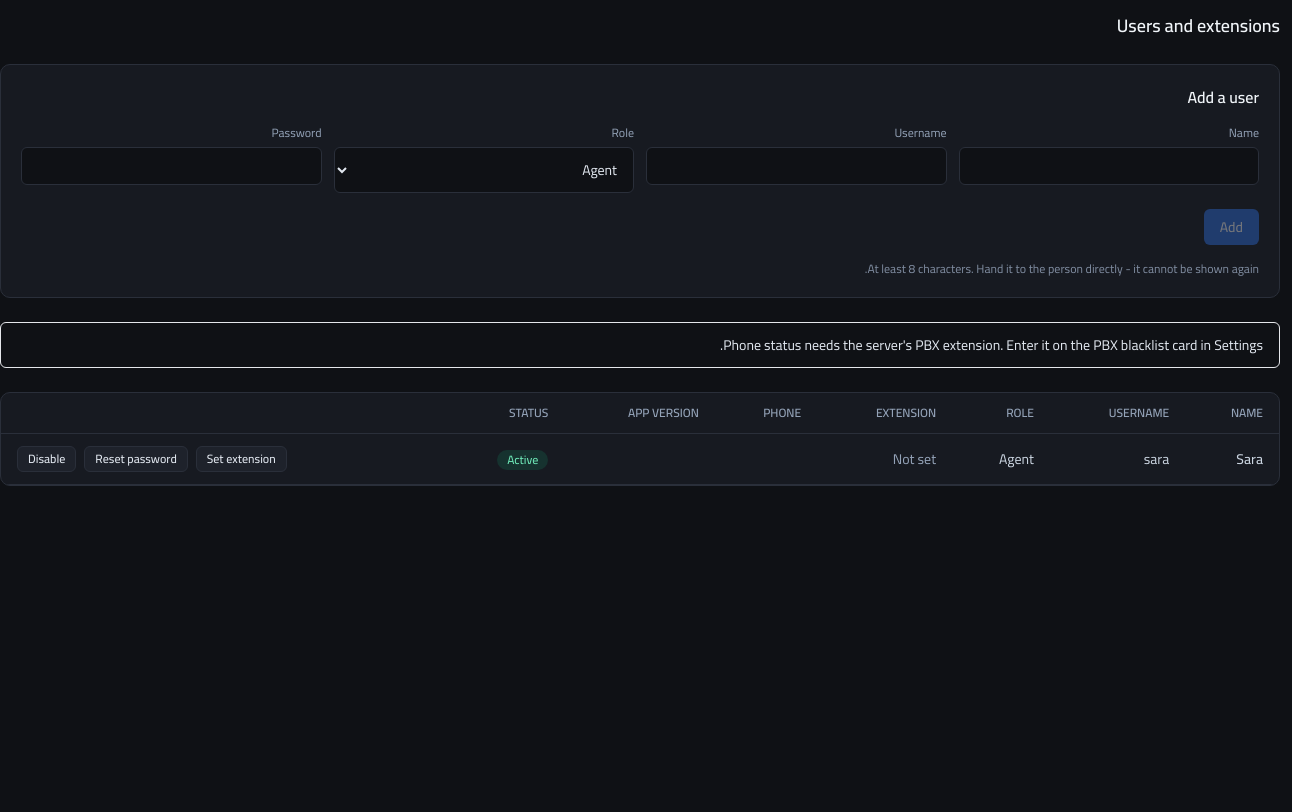
Test: users page › translates a refusal from the server
The width and height of the screenshot is (1292, 812).
Expected: the text "Sara" is shown, [1185,434,1279,484]
Type "Omar" into the field labelled "Name" at (1109, 166), box [958,147,1259,185]
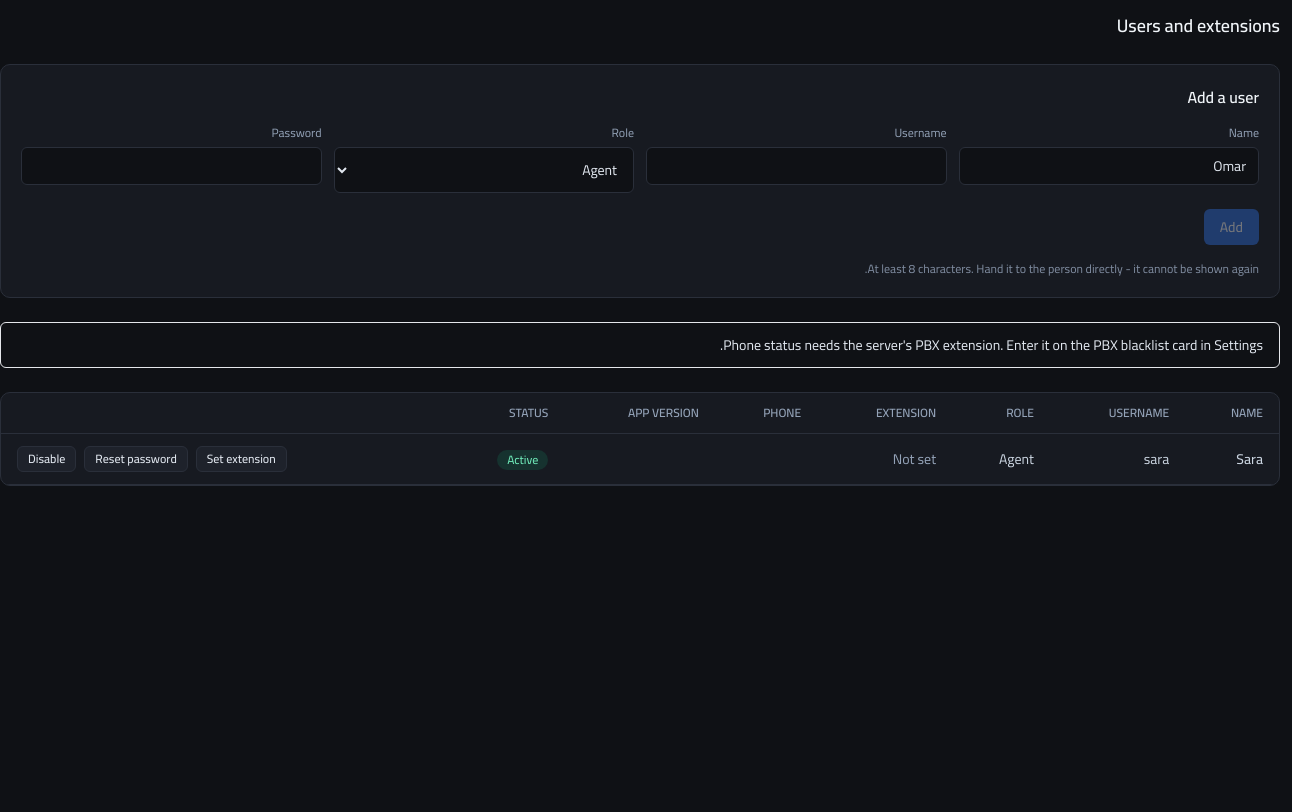
Type "sara" into the field labelled "Username" at (796, 166), box [646,147,946,185]
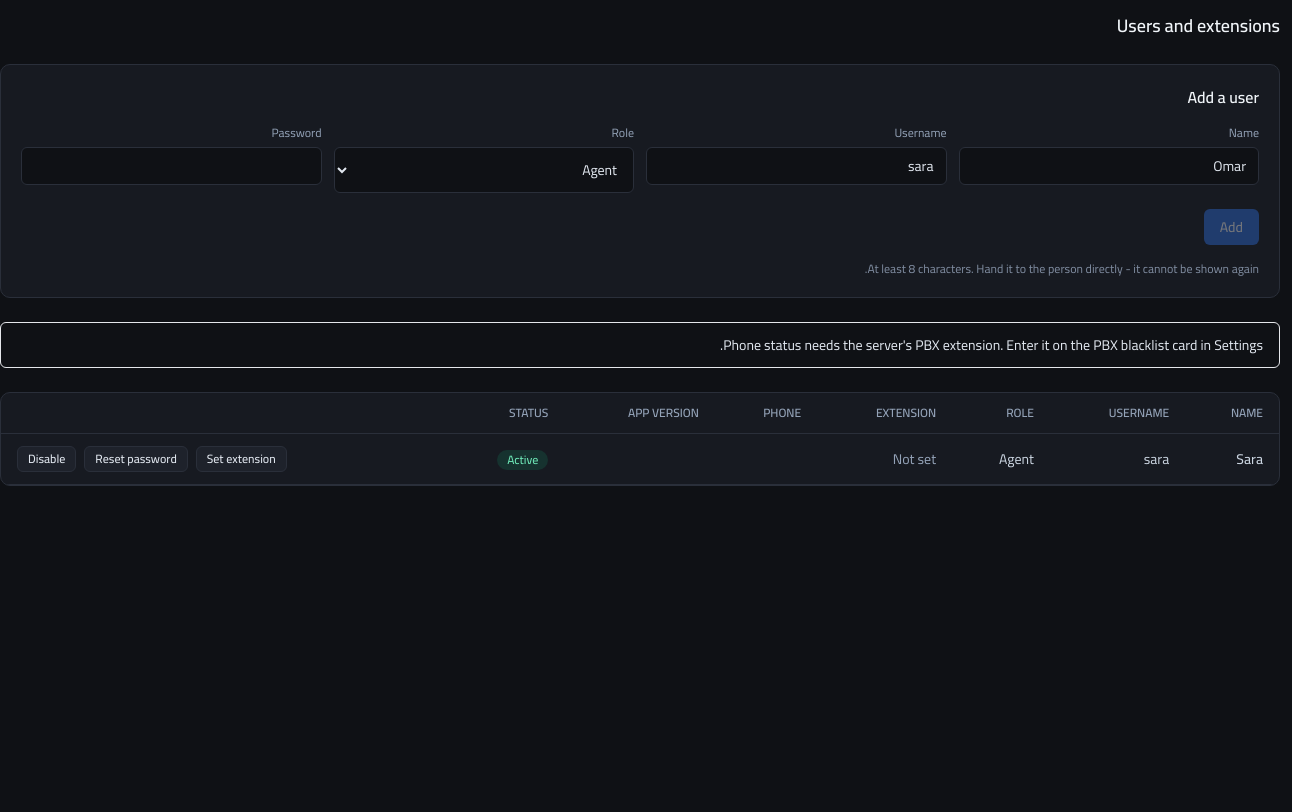
Type "longenough" into the password field labelled "Password" at (171, 166), box [21,147,322,185]
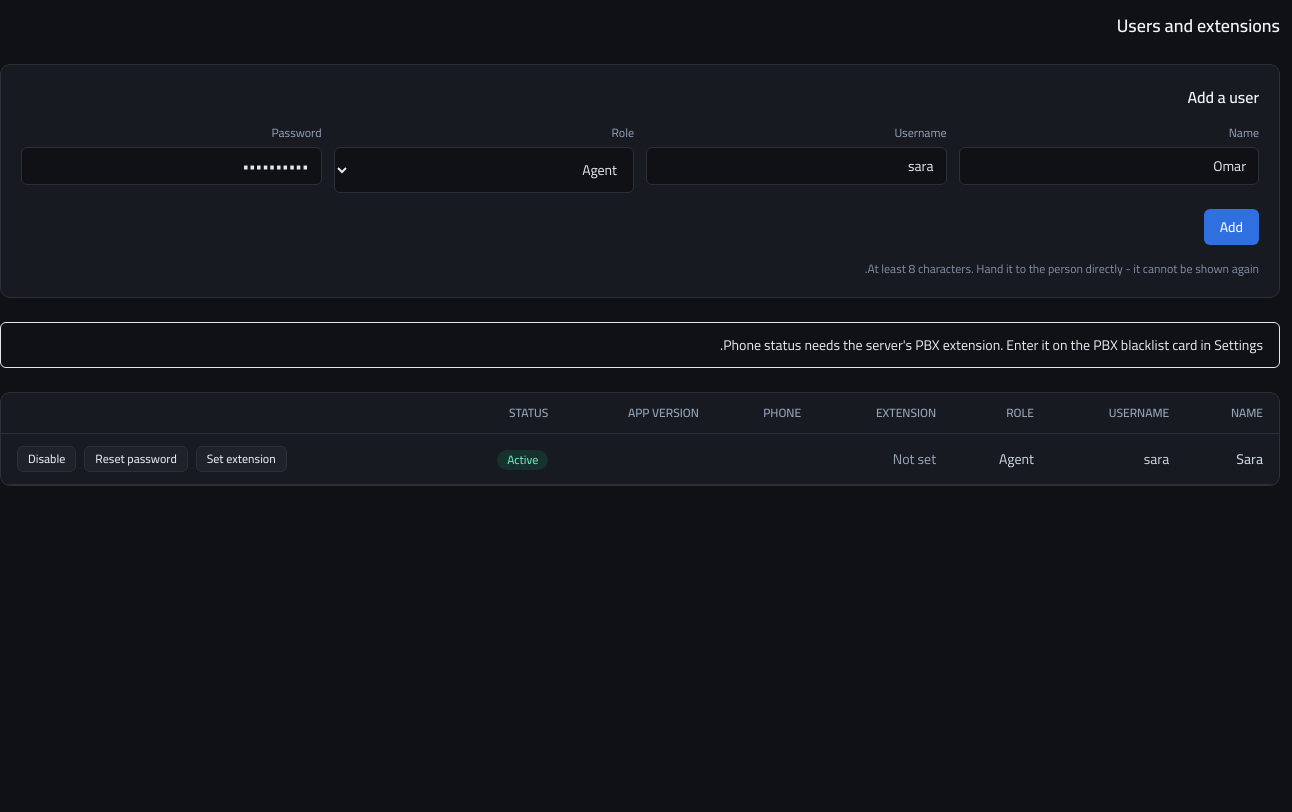
Click the button "Add" at (1231, 227), box [1204,209,1259,245]
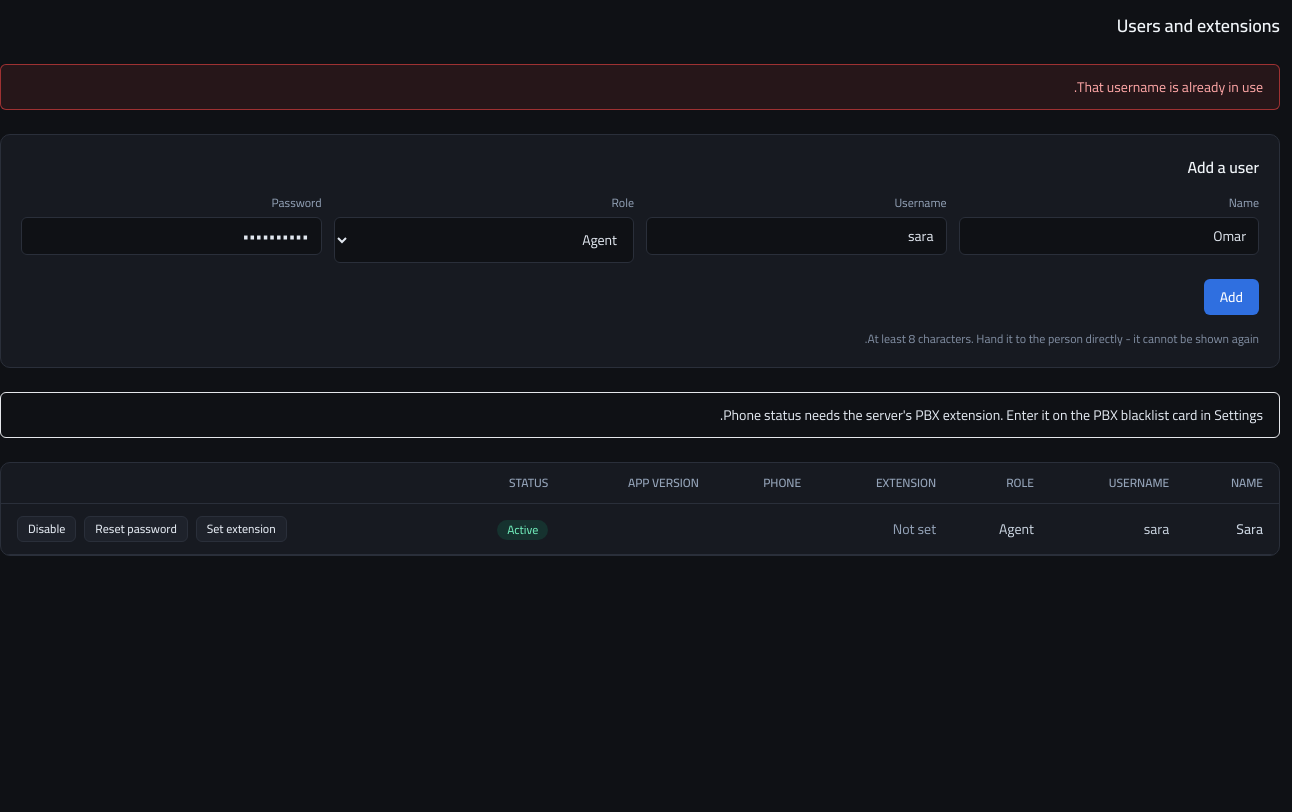
Expected: the message reads "That username is already in use.", [1074,74,1263,100]
